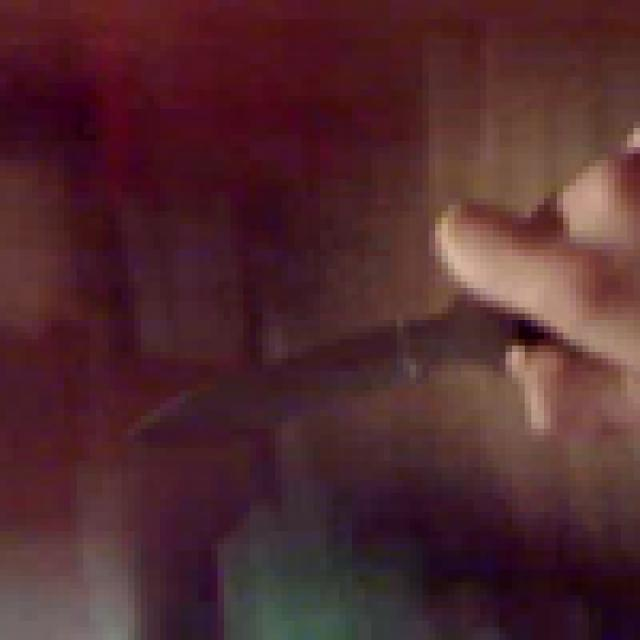Knife_Handle: (122, 122, 640, 448)
